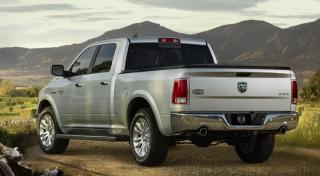ram: (234, 80, 250, 96)
